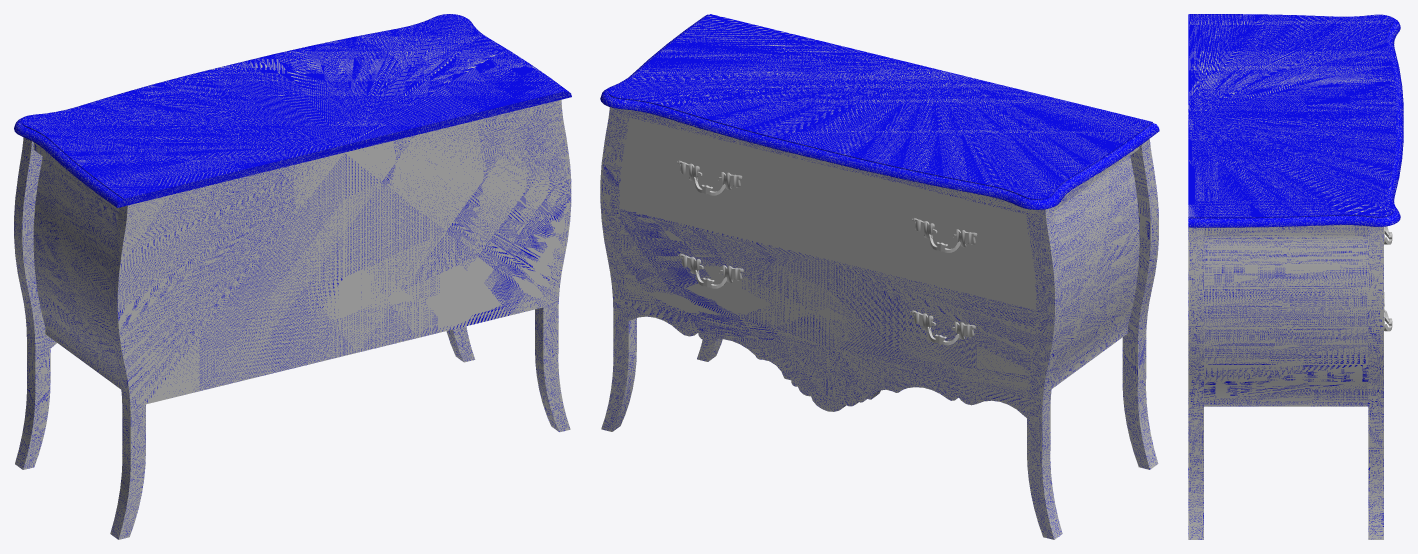
The picture shows the model from 3 angles, left to right: view 1: azimuth 30°, elevation 25°; view 2: azimuth 150°, elevation 25°; view 3: azimuth 270°, elevation 25°; orthographic projection. The views are drawn at different scales.
Parts seen in each view (by area): view 1: mesh19_mesh19-geometry, mesh8_mesh8-geometry, mesh18_mesh18-geometry, mesh7_mesh7-geometry, mesh21_mesh21-geometry, mesh12_mesh12-geometry, mesh1_mesh1-geometry; view 2: mesh18_mesh18-geometry, mesh7_mesh7-geometry, mesh16_mesh16-geometry, mesh5_mesh5-geometry, mesh17_mesh17-geometry, mesh6_mesh6-geometry, mesh12_mesh12-geometry, mesh21_mesh21-geometry, mesh1_mesh1-geometry, mesh19_mesh19-geometry; view 3: mesh10_mesh10-geometry, mesh7_mesh7-geometry, mesh18_mesh18-geometry, mesh1_mesh1-geometry, mesh8_mesh8-geometry, mesh11_mesh11-geometry.
Part boxes in pixels (x1,y1,x2,y2): mesh19_mesh19-geometry: [109, 152, 344, 539]; mesh8_mesh8-geometry: [344, 99, 571, 432]; mesh18_mesh18-geometry: [14, 64, 344, 207]; mesh7_mesh7-geometry: [232, 14, 571, 152]; mesh21_mesh21-geometry: [33, 156, 121, 389]; mesh12_mesh12-geometry: [14, 137, 56, 469]; mesh1_mesh1-geometry: [446, 326, 475, 362]; mesh18_mesh18-geometry: [817, 68, 1159, 209]; mesh7_mesh7-geometry: [600, 14, 930, 159]; mesh16_mesh16-geometry: [827, 166, 1035, 309]; mesh5_mesh5-geometry: [619, 118, 827, 259]; mesh17_mesh17-geometry: [827, 259, 1036, 394]; mesh6_mesh6-geometry: [619, 208, 827, 346]; mesh12_mesh12-geometry: [827, 162, 1063, 539]; mesh21_mesh21-geometry: [1051, 156, 1139, 388]; mesh1_mesh1-geometry: [600, 107, 827, 431]; mesh19_mesh19-geometry: [1122, 139, 1158, 469]; mesh10_mesh10-geometry: [1204, 235, 1368, 406]; mesh7_mesh7-geometry: [1188, 116, 1403, 227]; mesh18_mesh18-geometry: [1188, 14, 1403, 121]; mesh1_mesh1-geometry: [1368, 226, 1383, 539]; mesh8_mesh8-geometry: [1188, 227, 1203, 539]; mesh11_mesh11-geometry: [1204, 225, 1368, 235].
Size of the model in its own units: 0.7677 by 0.5472 by 0.3335.
